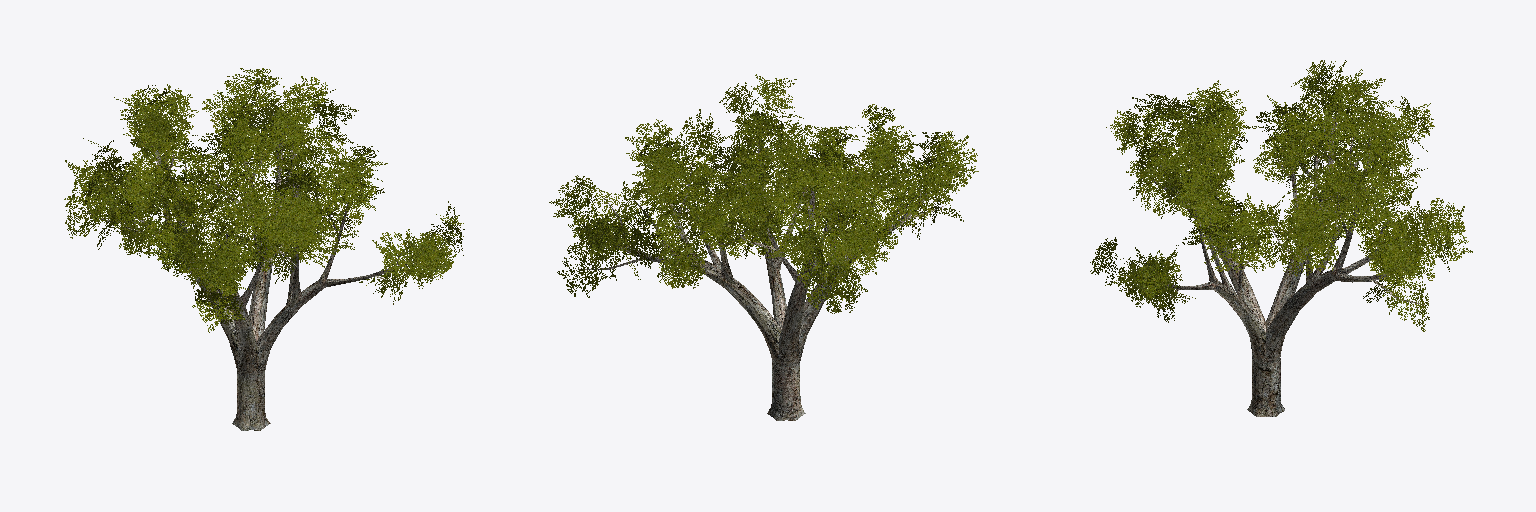
The picture shows the model from 3 angles: view 1: azimuth 30°, elevation 25°; view 2: azimuth 150°, elevation 25°; view 3: azimuth 270°, elevation 25°; orthographic projection.
Parts seen in each view (by area): view 1: Foliage__leafcard, Bark; view 2: Foliage__leafcard, Bark; view 3: Foliage__leafcard, Bark.
Part boxes in pixels (left/top/right/bottom): Foliage__leafcard: left=64, top=68, right=464, bottom=332; Bark: left=78, top=105, right=406, bottom=430; Foliage__leafcard: left=549, top=74, right=978, bottom=313; Bark: left=579, top=144, right=945, bottom=420; Foliage__leafcard: left=1090, top=60, right=1472, bottom=331; Bark: left=1152, top=107, right=1423, bottom=416.
Bounding box in the file's own units: 26.53 × 25 × 27.77.
Materials: 2 (2 with a texture image).